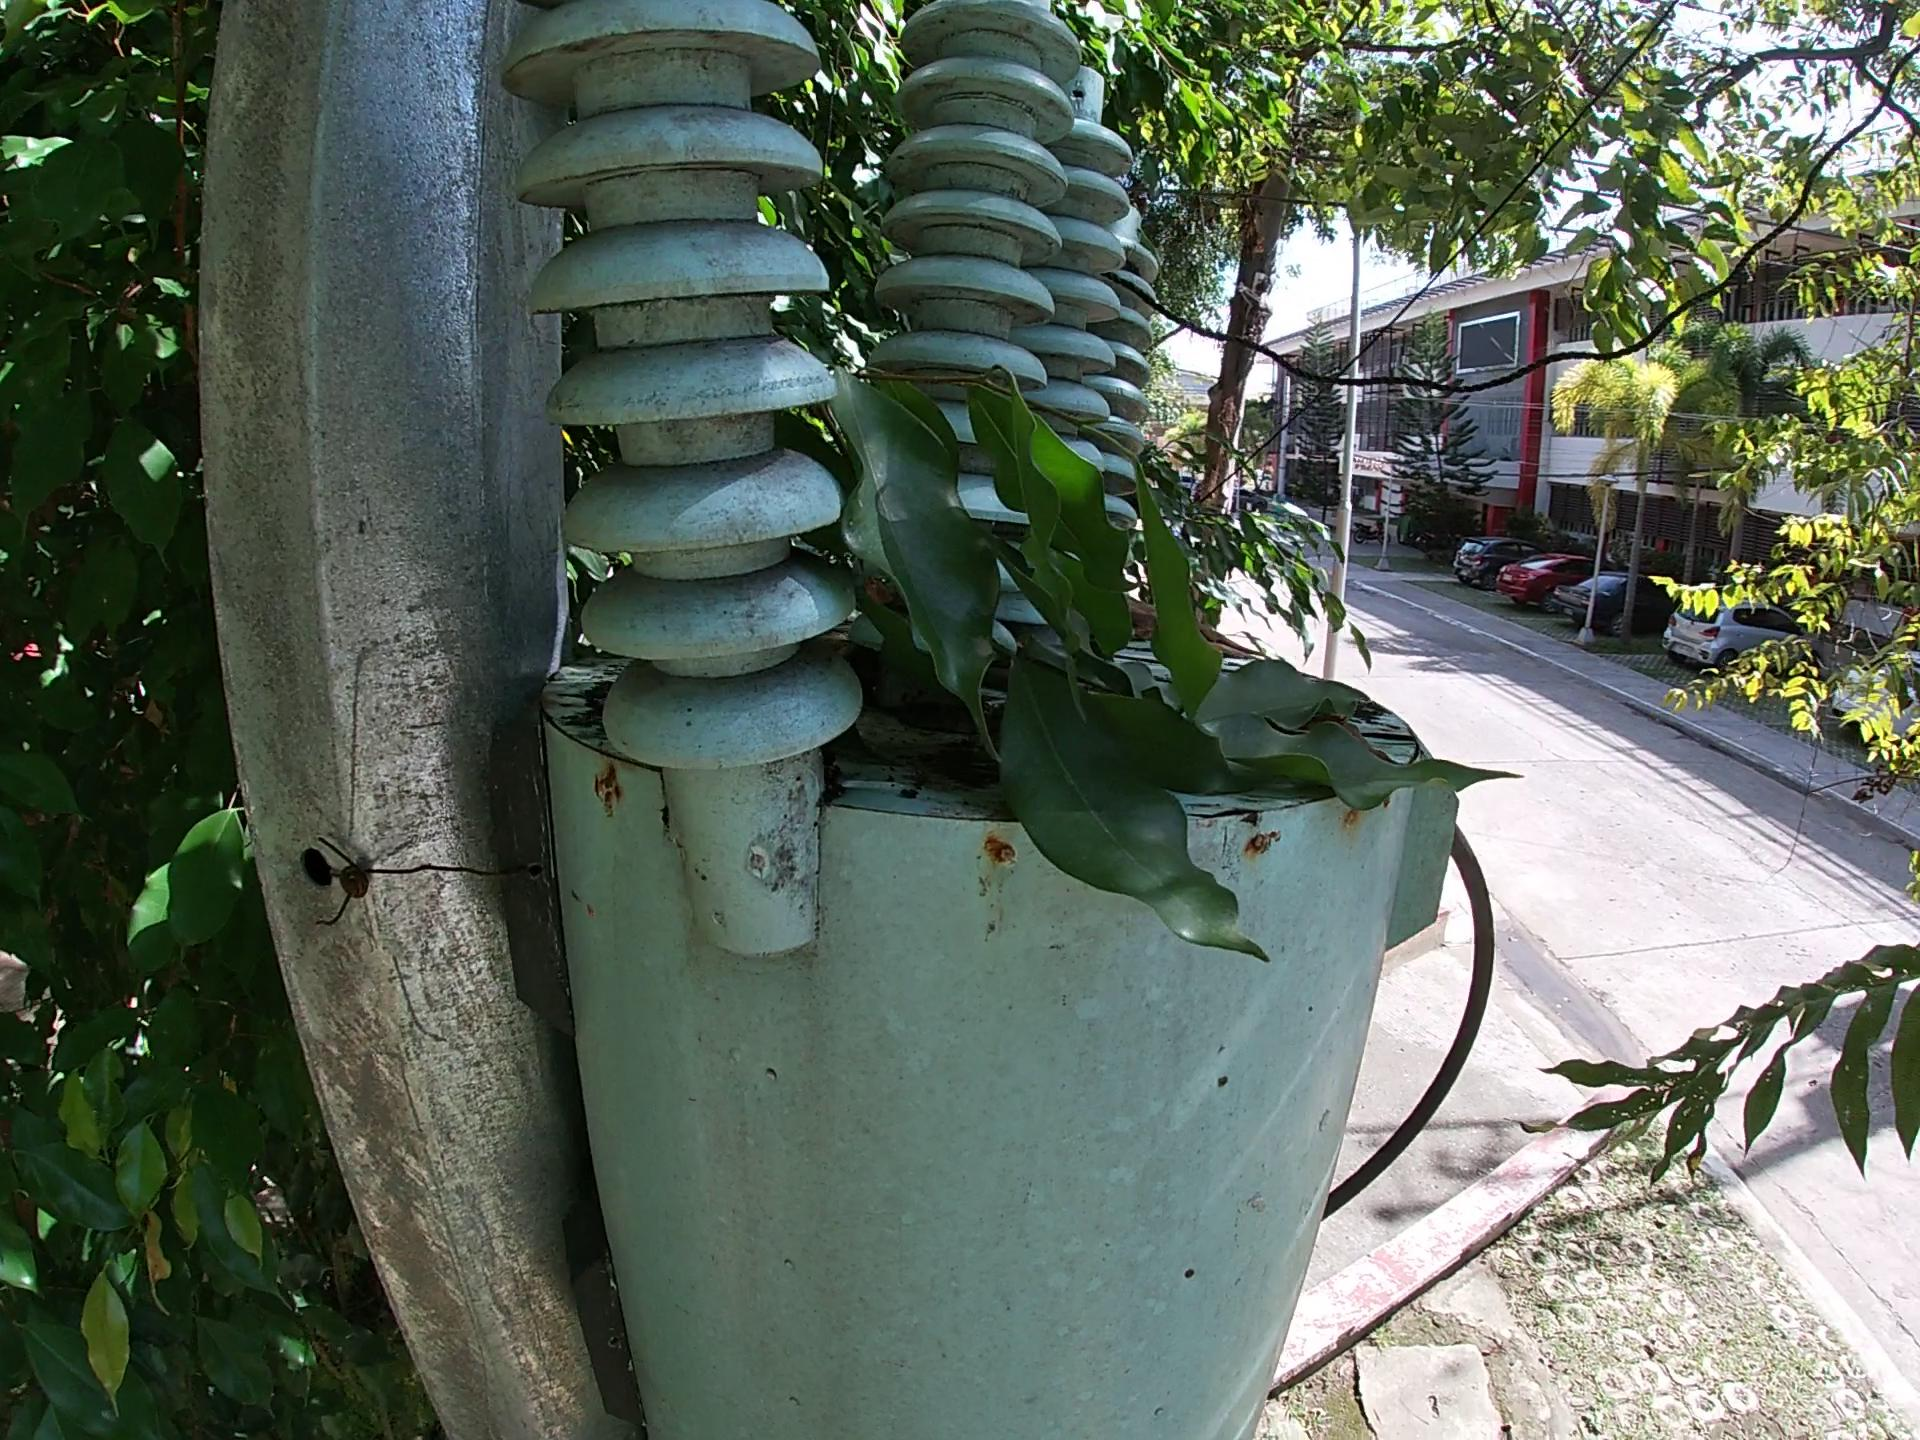branch with leaves: (798, 343, 1542, 1013)
tree branch: (1098, 601, 1262, 653)
